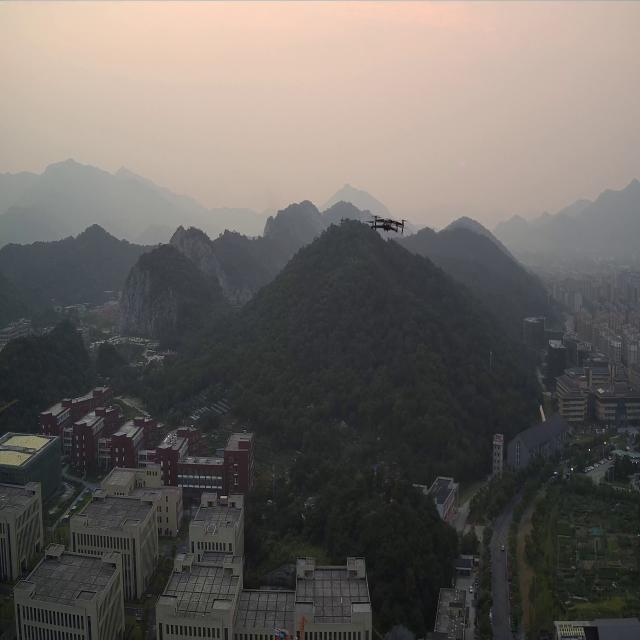UAV: (364, 214, 411, 234)
